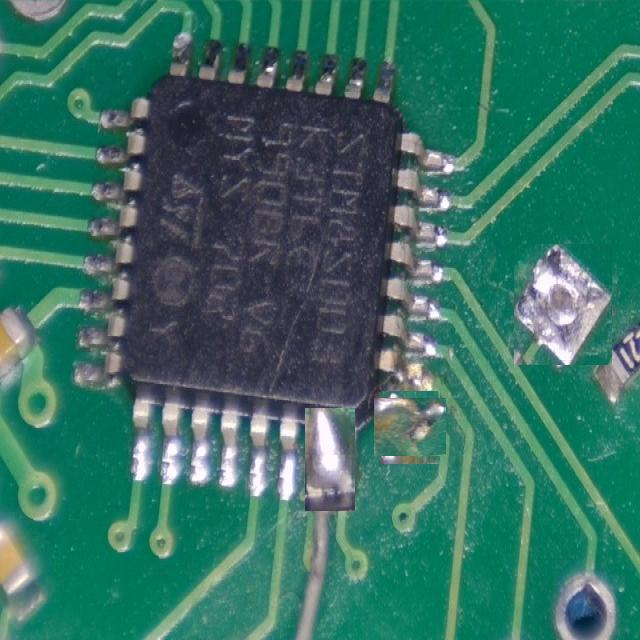Short_circuit: (514, 244, 612, 365), (306, 408, 353, 511)
